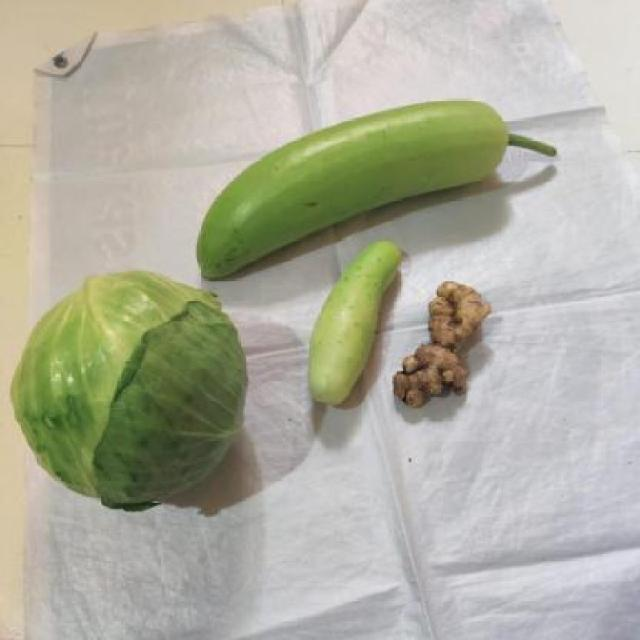Cabbage: (15, 271, 240, 511)
Calabash: (190, 108, 544, 208)
Ginger: (394, 278, 486, 411)
cucumber: (308, 243, 392, 406)
